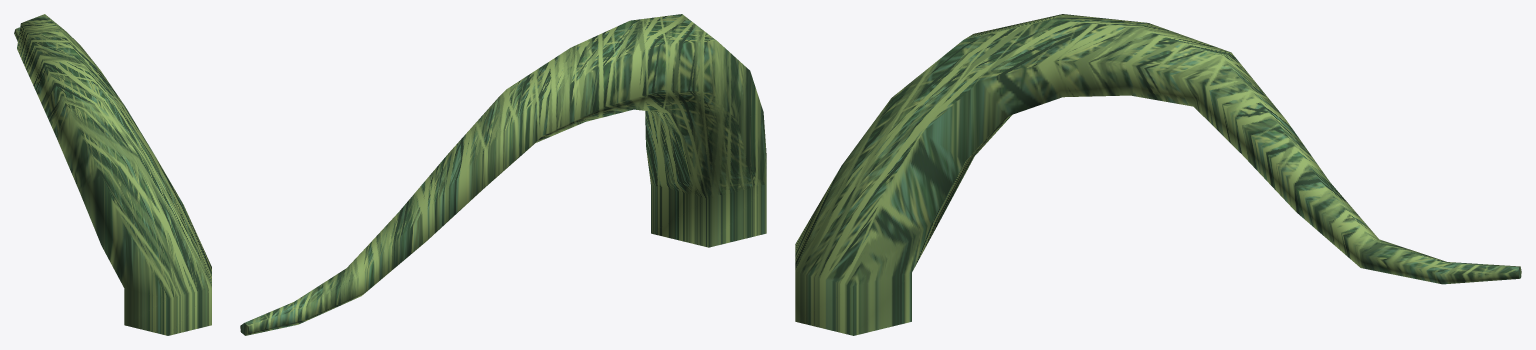
The model's file is SM_Vine02.fbx.
3 renders of one model, left to right at view 1: azimuth 30°, elevation 25°; view 2: azimuth 150°, elevation 25°; view 3: azimuth 270°, elevation 25°, orthographic. The views are drawn at different scales.
Visible parts, largest first — view 1: SM_Vine02; view 2: SM_Vine02; view 3: SM_Vine02.
Part boxes in pixels (left/top/right/bottom): SM_Vine02: left=14, top=14, right=211, bottom=335; SM_Vine02: left=240, top=14, right=766, bottom=335; SM_Vine02: left=795, top=14, right=1521, bottom=335.
Bounding box in the file's own units: 32.37 × 94.54 × 39.92.
